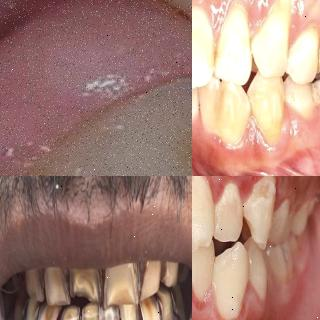Gum Swelling: (0, 0, 192, 176), (192, 100, 320, 176), (192, 0, 279, 43)
maligned: (211, 241, 252, 320), (213, 74, 255, 140), (211, 176, 249, 242)
plaque: (192, 176, 212, 244), (211, 180, 243, 220)
stains: (192, 32, 236, 74), (59, 259, 75, 305), (96, 254, 110, 304), (136, 258, 151, 304), (13, 254, 27, 296), (115, 300, 141, 320), (156, 294, 176, 320), (171, 288, 187, 320), (137, 301, 161, 320), (36, 256, 46, 301), (156, 255, 170, 286), (82, 303, 101, 320), (13, 301, 29, 320), (171, 261, 187, 279), (23, 305, 40, 320)
